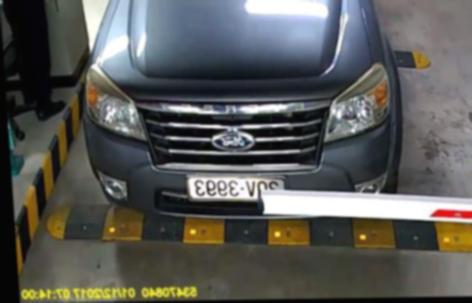License_Plate: (187, 174, 289, 202)
